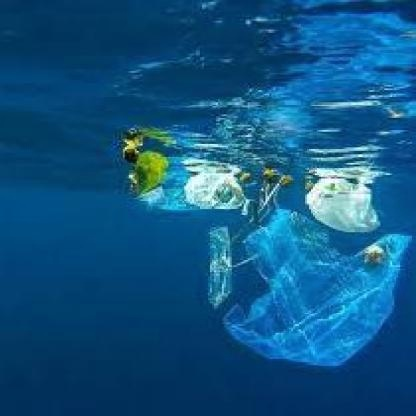pbag: (204, 199, 416, 380), (292, 168, 384, 232), (174, 142, 250, 217)
